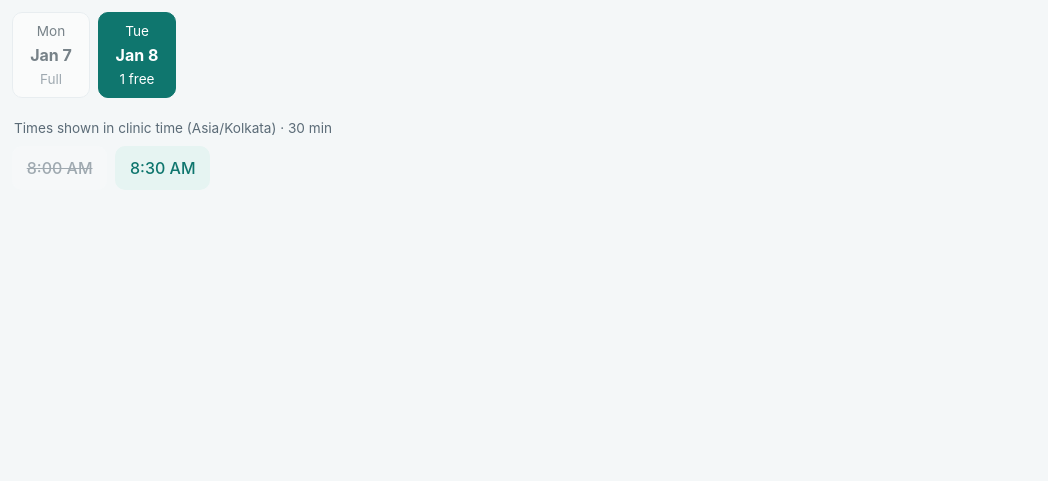
Test: BookingPanel › explains a lost race and refreshes the slots
Click the button "8:30 AM" at point(163, 168), box [115, 146, 210, 190]
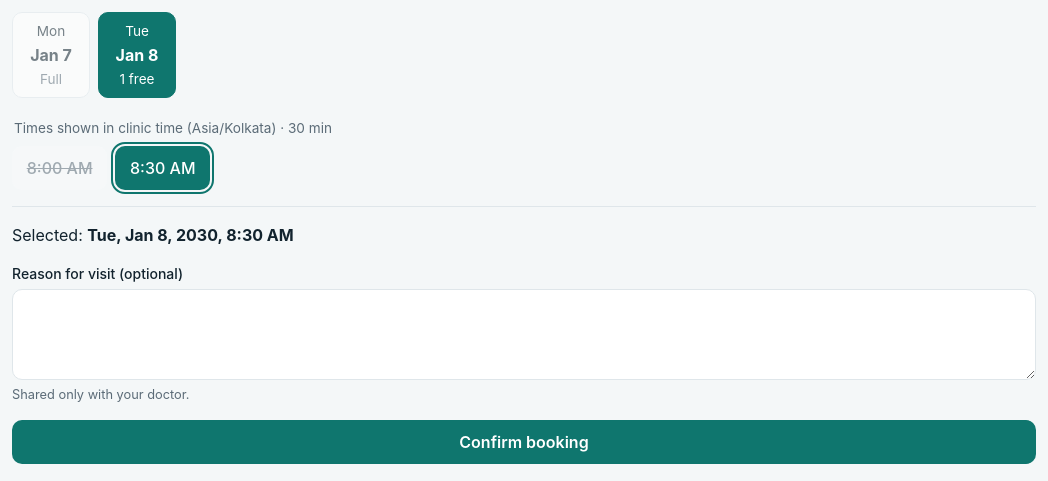
Click the button "Confirm booking" at point(524, 442), box [12, 420, 1036, 464]
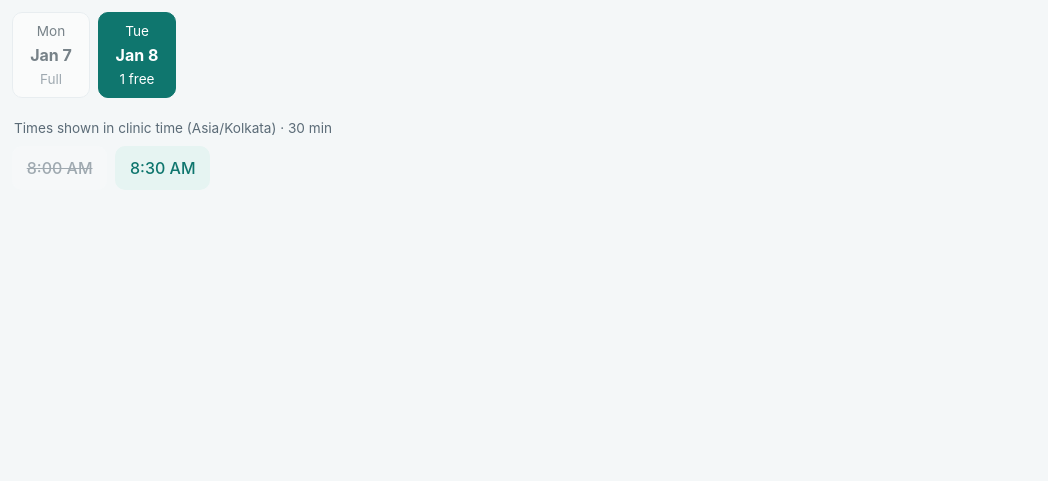
Now the button "Confirm booking" is gone
